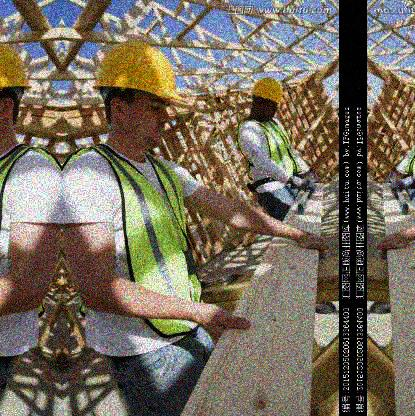helmet: (94, 40, 182, 158), (1, 43, 35, 149), (252, 78, 281, 122)
